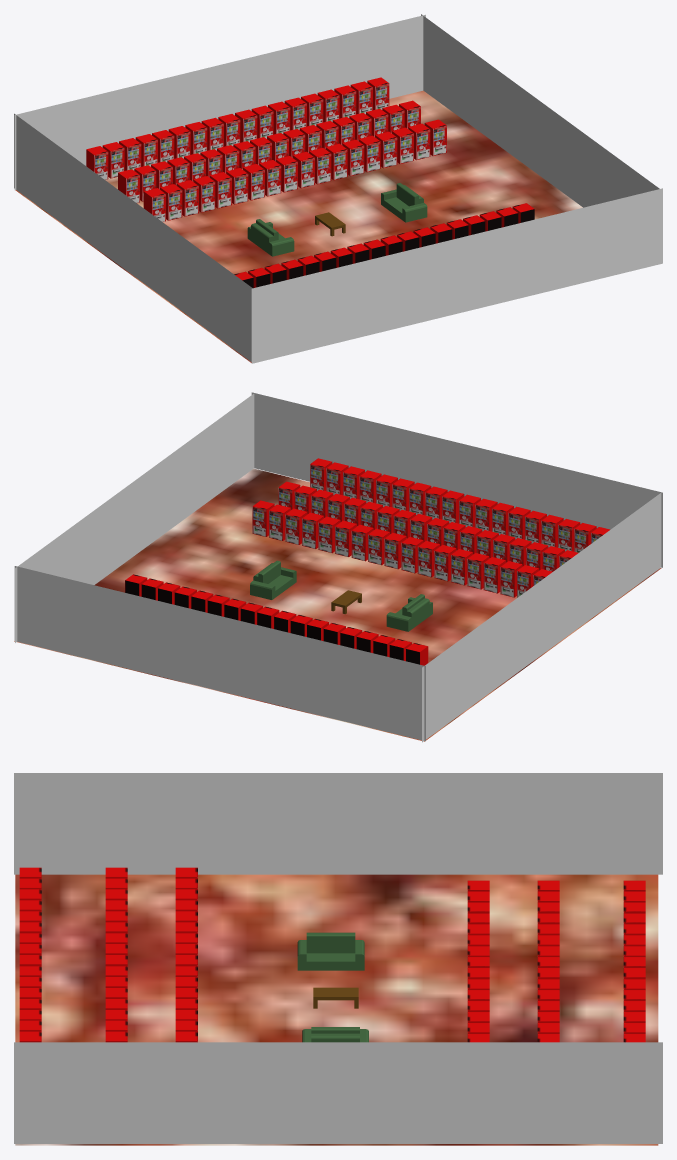
File: livingRoom.fbx
The picture shows the model from 3 angles, top to bottom: view 1: azimuth 30°, elevation 25°; view 2: azimuth 150°, elevation 25°; view 3: azimuth 270°, elevation 25°; orthographic projection. The views are drawn at different scales.
Visible parts, largest first — view 1: Plane.003, Plane, Plane.001, Plane.004, Plane.002, Cube.056, Cube, Cube.081, Cube.082, Cube.084, Cube.075, Cube.103 (+32 smaller); view 2: Plane.001, Plane, Plane.003, Plane.004, Plane.002, Cube.056, Cube, Cube.006, Cube.030, Cube.035, Cube.002, Cube.009 (+27 smaller); view 3: Plane, Plane.002, Plane.004, Cube, Cube.056, Cube.001.
Part boxes in pixels (x1,y1,x2,y2): Plane.003: (251,188,662,363); Plane: (15,90,582,362); Plane.001: (14,14,425,189); Plane.004: (14,113,252,361); Plane.002: (421,14,659,207); Cube.056: (381,183,427,222); Cube: (247,219,294,256); Cube.081: (342,139,364,176); Cube.082: (375,131,397,168); Cube.084: (86,146,108,179); Cube.075: (292,151,314,188); Cube.103: (176,180,198,216); Plane.001: (14,566,425,741); Plane: (14,468,661,741); Plane.003: (251,392,662,567); Plane.004: (422,493,661,742); Plane.002: (15,393,254,642); Cube.056: (250,560,296,599); Cube: (386,594,432,631); Cube.006: (384,532,406,569); Cube.030: (483,557,505,593); Cube.035: (417,541,439,577); Cube.002: (318,516,340,553); Cube.009: (285,508,307,544); Plane: (15,874,658,1145); Plane.002: (14,1042,662,1143); Plane.004: (14,773,662,874); Cube: (297,932,364,970); Cube.056: (302,1027,368,1042); Cube.001: (313,987,358,1008).
Bounding box in the file's own units: 5854 × 1024 × 5897.
